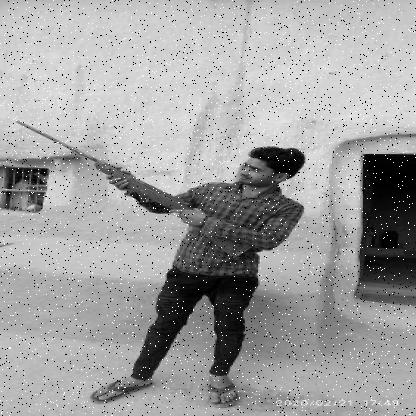rifle: (12, 118, 256, 260)
